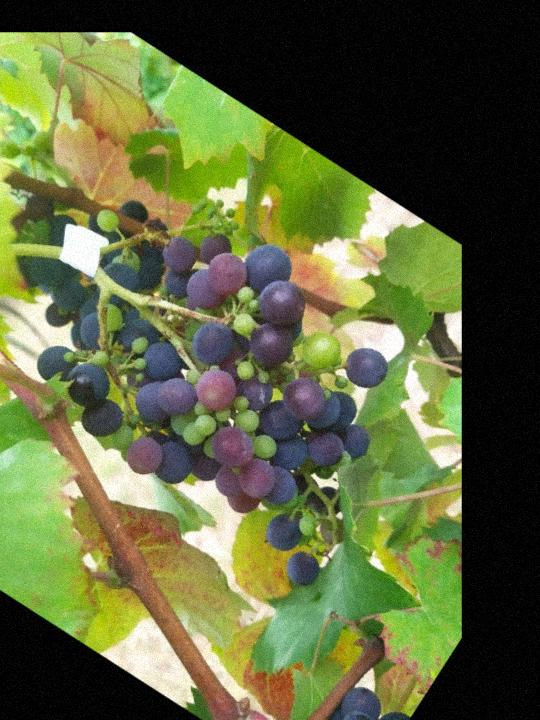grape: (0, 148, 464, 596)
